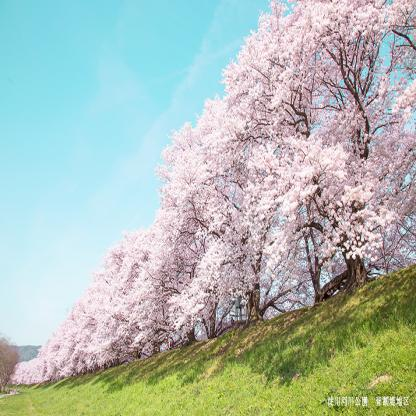Someiyoshino: (288, 4, 413, 265), (258, 1, 326, 300), (226, 27, 288, 331), (192, 90, 252, 335), (150, 126, 212, 343), (111, 234, 165, 352), (77, 274, 128, 363), (15, 332, 92, 378)
